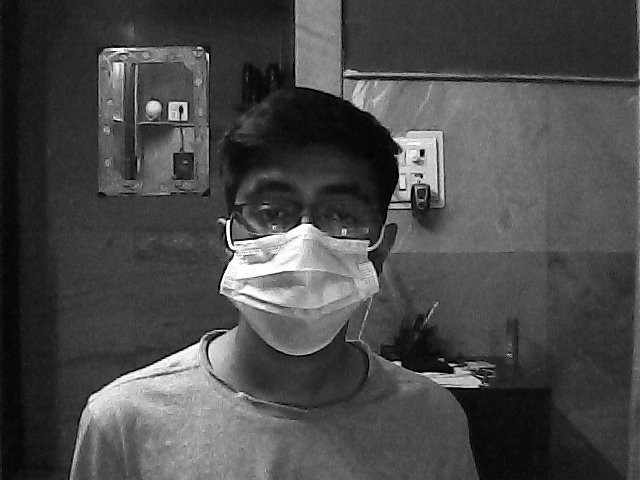mask: (227, 172, 380, 366)
